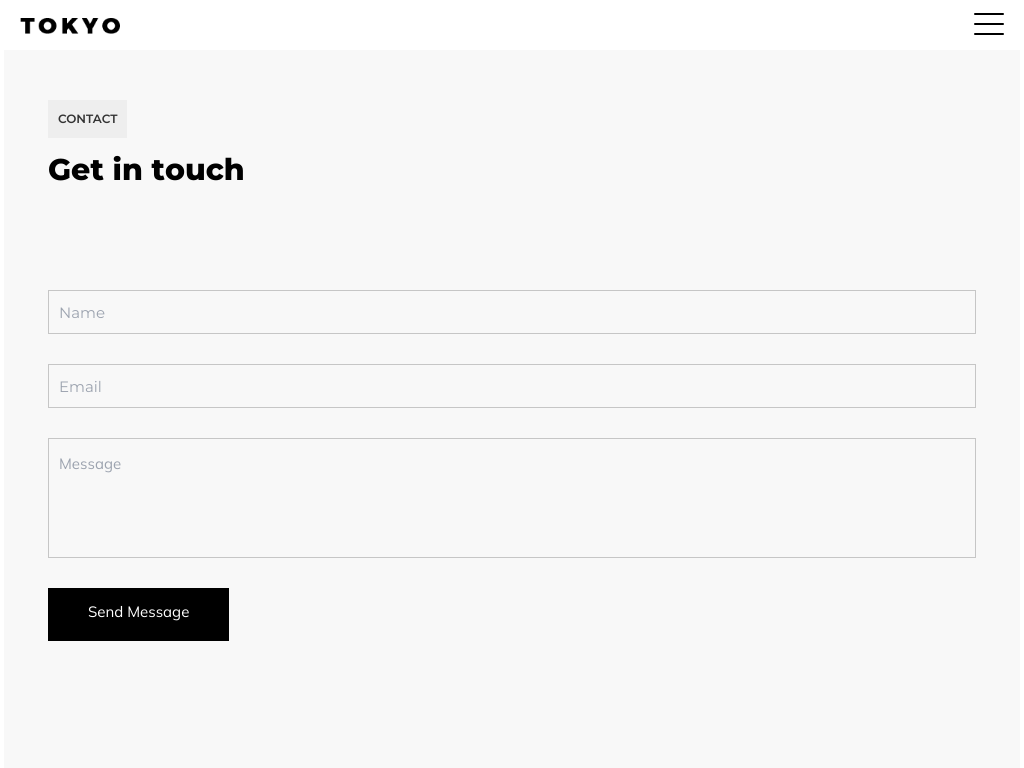
Contact page › Submit actions › Should submit form successfully
The width and height of the screenshot is (1024, 768).
Type "Papa Gula" into the field with test id "form-name". click: [512, 312]
box: x1=48 y1=290 x2=976 y2=334
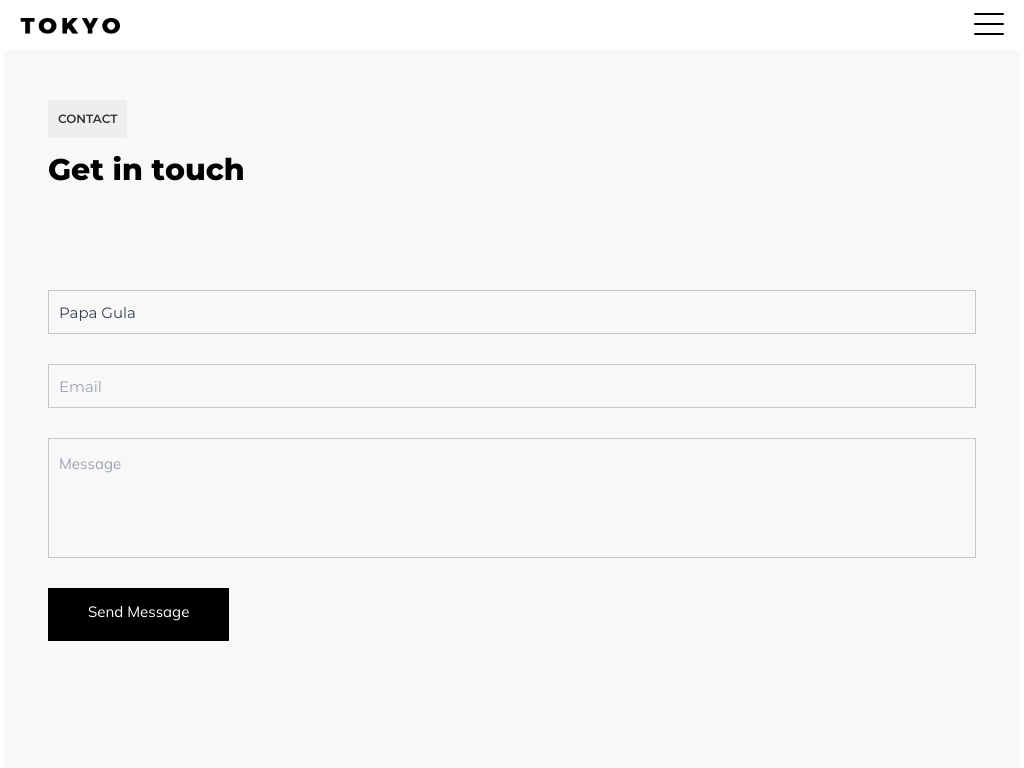
Type "papa@gula.com" into the field with test id "form-email". click: [512, 386]
box: x1=48 y1=364 x2=976 y2=408
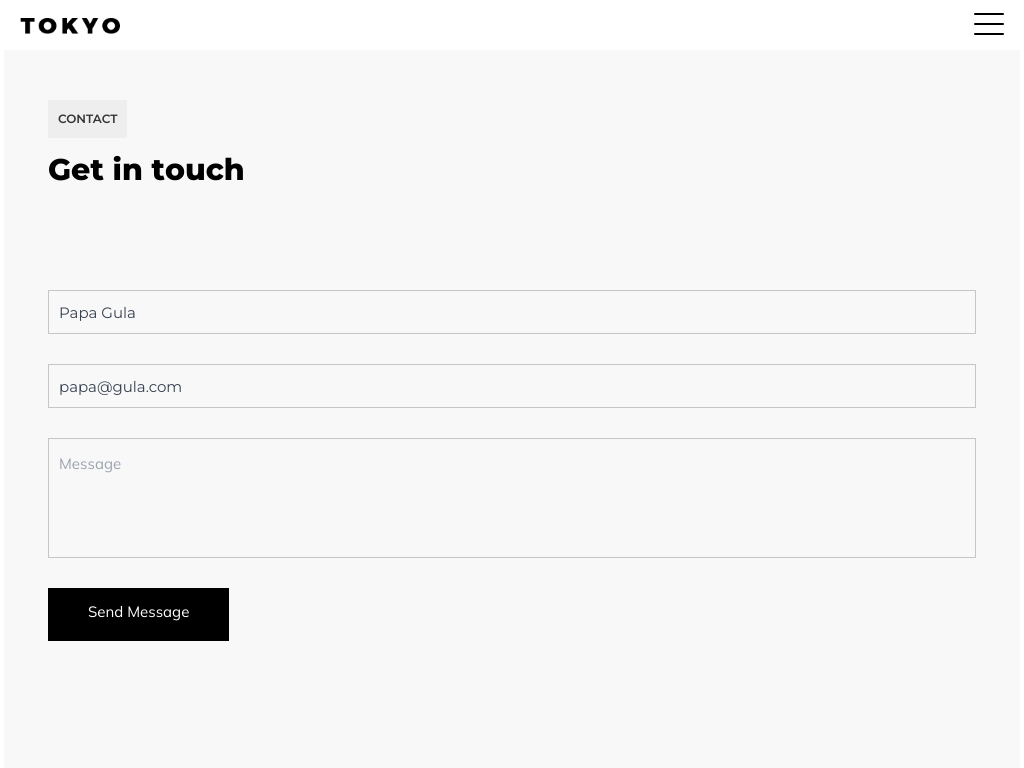
Type "Hi 👋🏻" into the text box with test id "form-message". click: [512, 498]
box: x1=48 y1=438 x2=976 y2=558
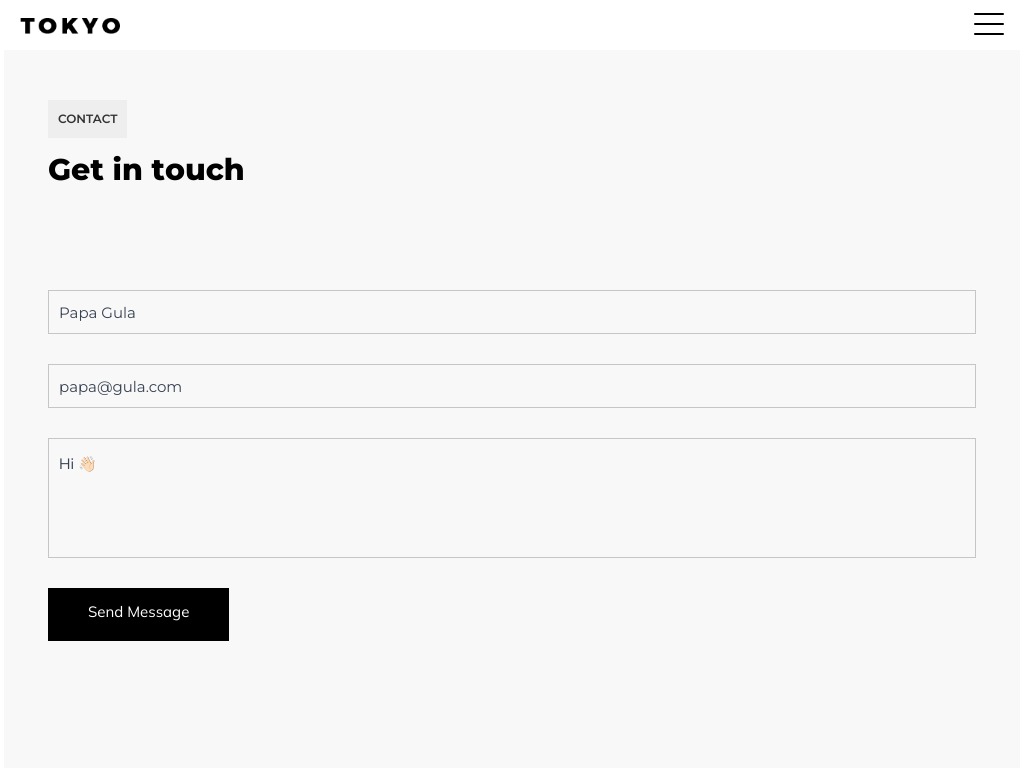
Click the button with test id "form-submit-button". click: [139, 614]
box: x1=48 y1=588 x2=229 y2=641
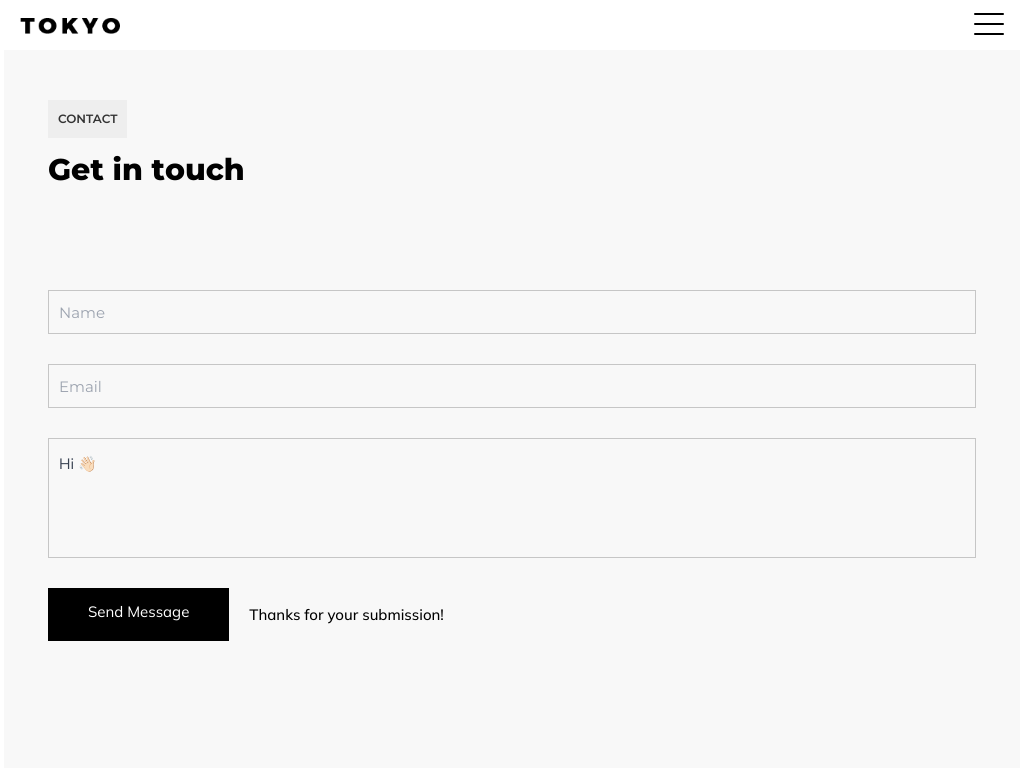
Result: the element with test id "form-submit-result" reads "Thanks for your submission!" at x1=249 y1=604 x2=444 y2=624
